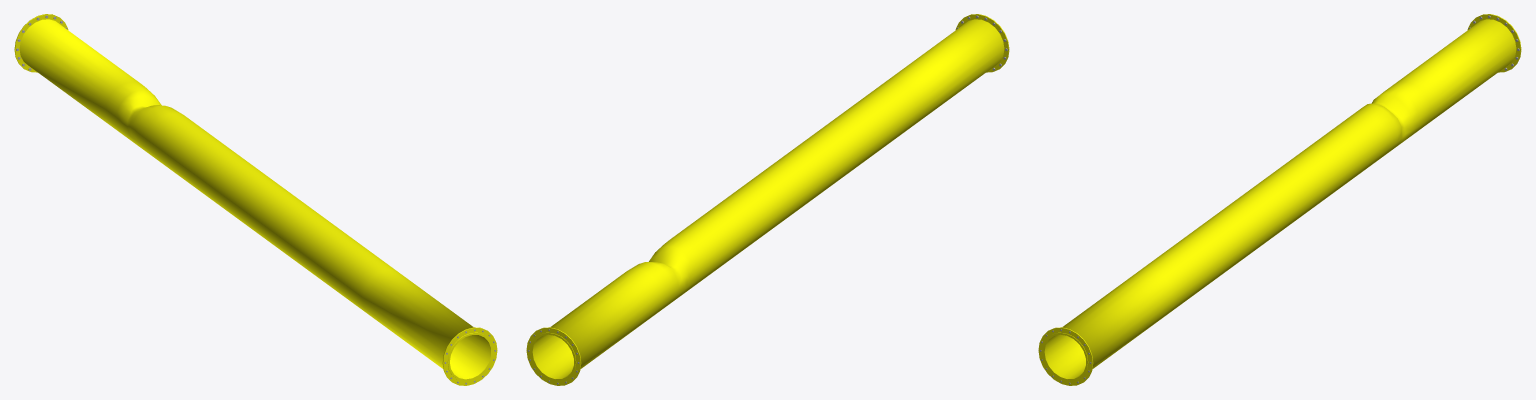
File: dented.dae
3 views of the same model, side by side, from view 1: azimuth 30°, elevation 25°; view 2: azimuth 150°, elevation 25°; view 3: azimuth 330°, elevation 25° (orthographic).
Parts seen in each view (by area): view 1: segment6_dented; view 2: segment6_dented; view 3: segment6_dented.
Boxes of the visible parts, <box> form: segment6_dented: <box>14,14,497,385</box>; segment6_dented: <box>526,14,1009,385</box>; segment6_dented: <box>1038,14,1521,385</box>.
Bounding box in the file's own units: 0.7315 × 10 × 0.7241.
